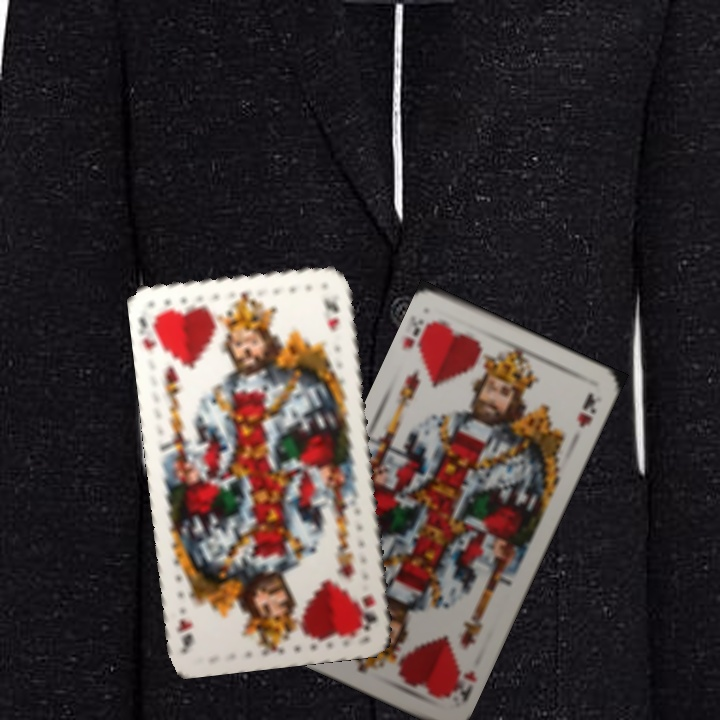HK: (440, 661, 479, 706), (135, 309, 167, 358), (408, 313, 439, 362), (355, 589, 379, 632)
